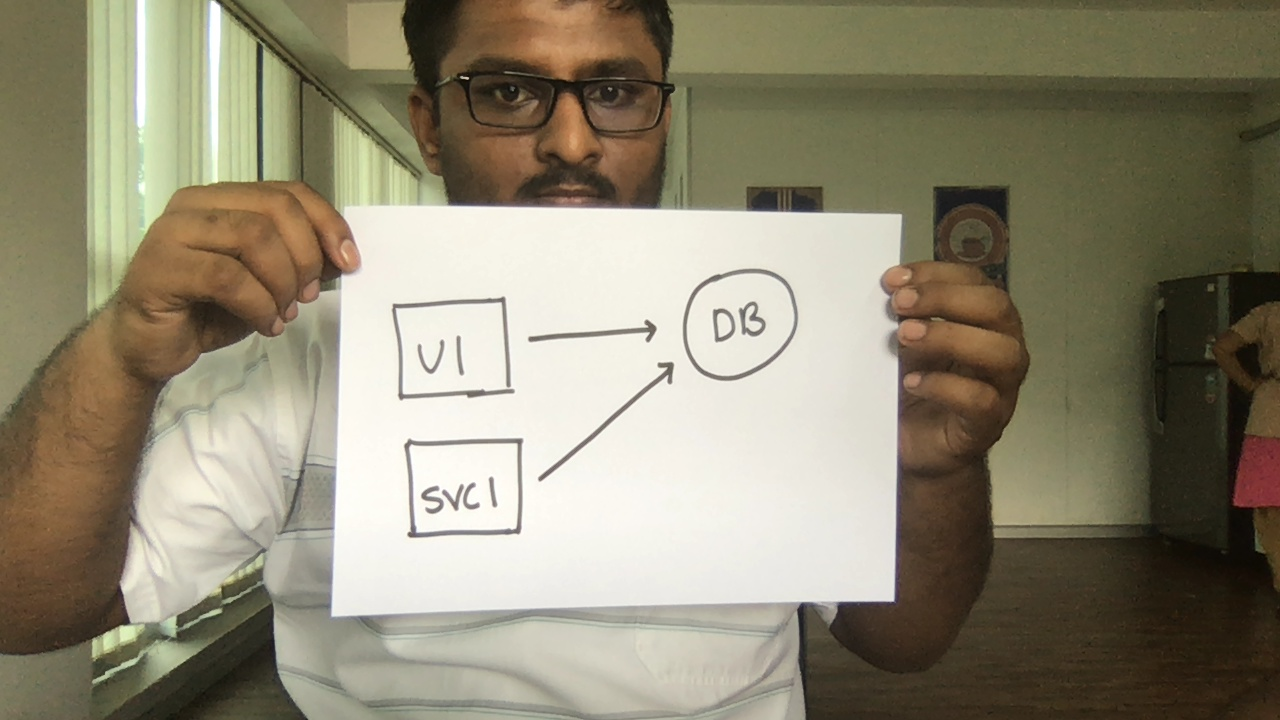arrow: (528, 358, 684, 491), (525, 304, 670, 358)
db: (680, 264, 800, 383)
ec2: (400, 433, 528, 544)
ui: (385, 294, 519, 403)
